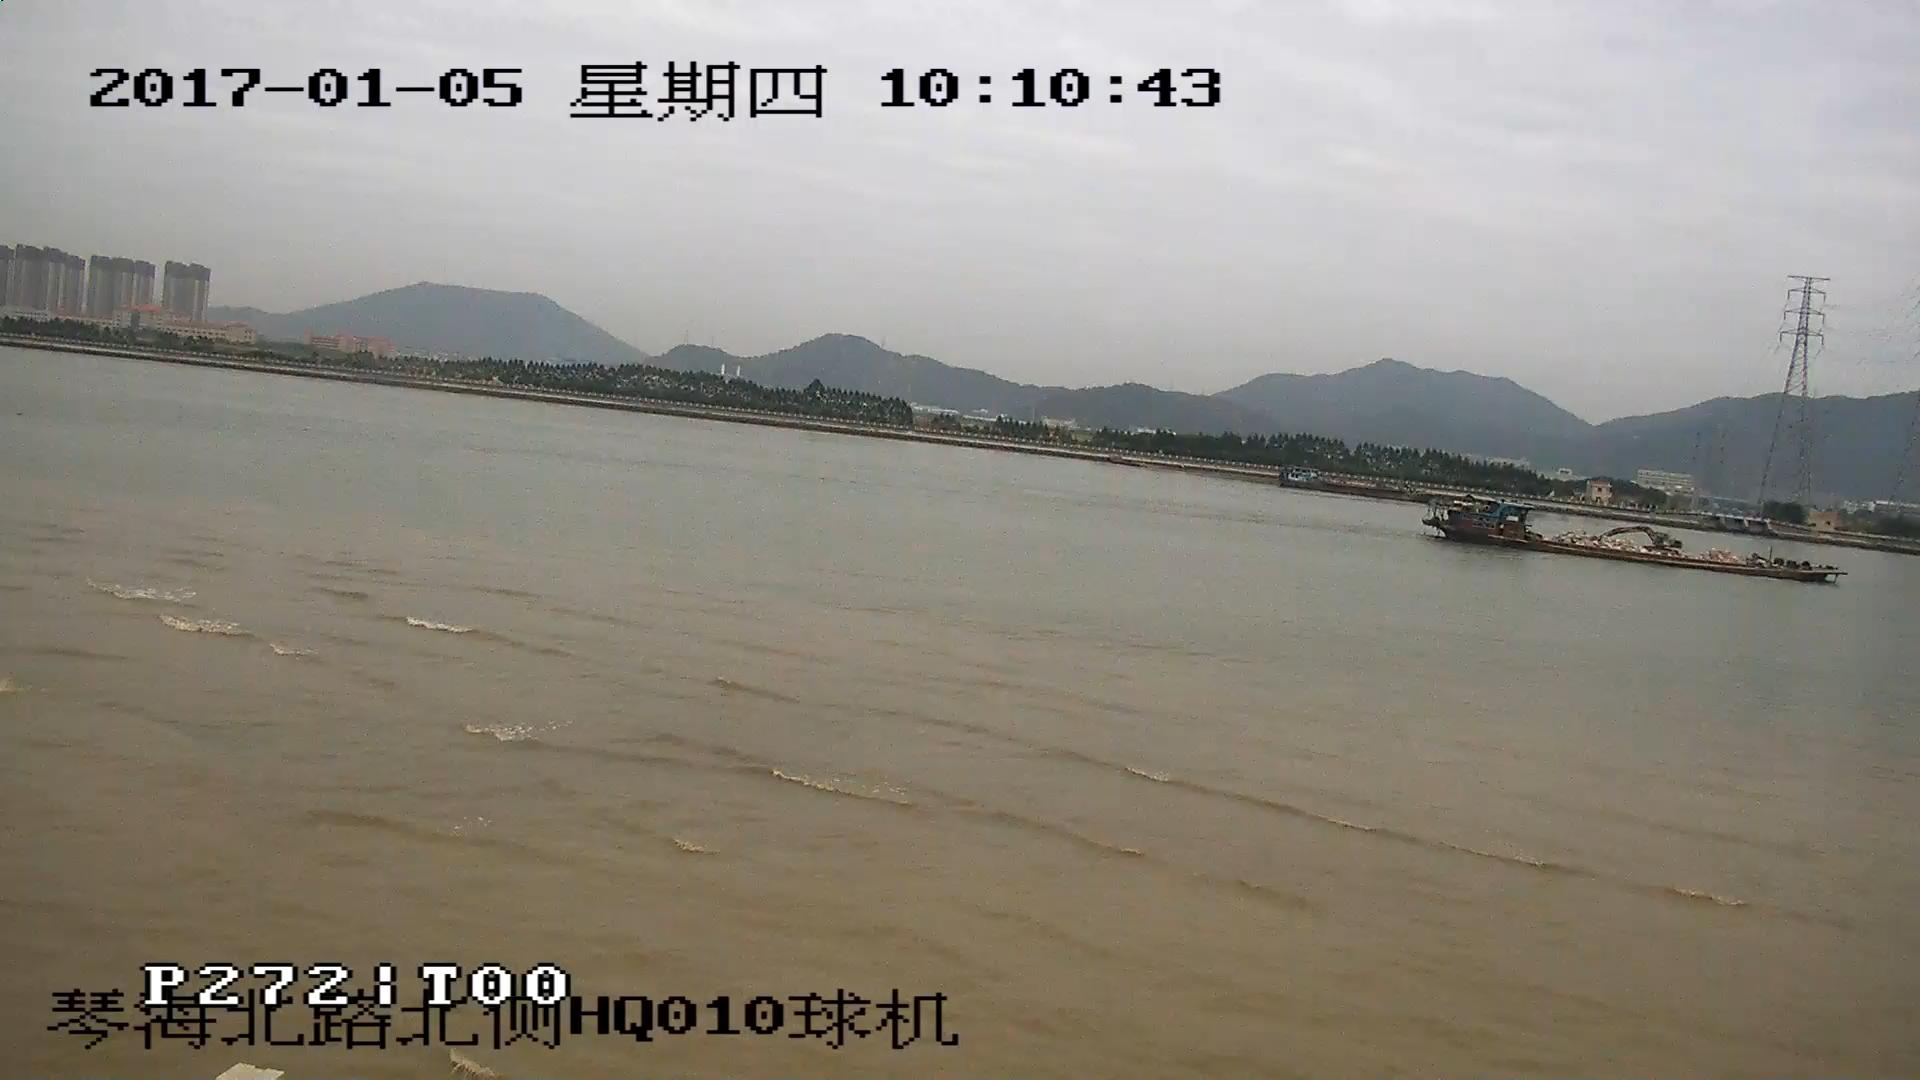bulk cargo carrier: (1436, 492, 1833, 582)
